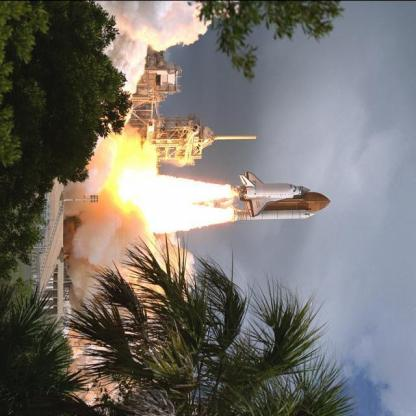MIL_TBM: (231, 206, 316, 222), (210, 133, 259, 141)
